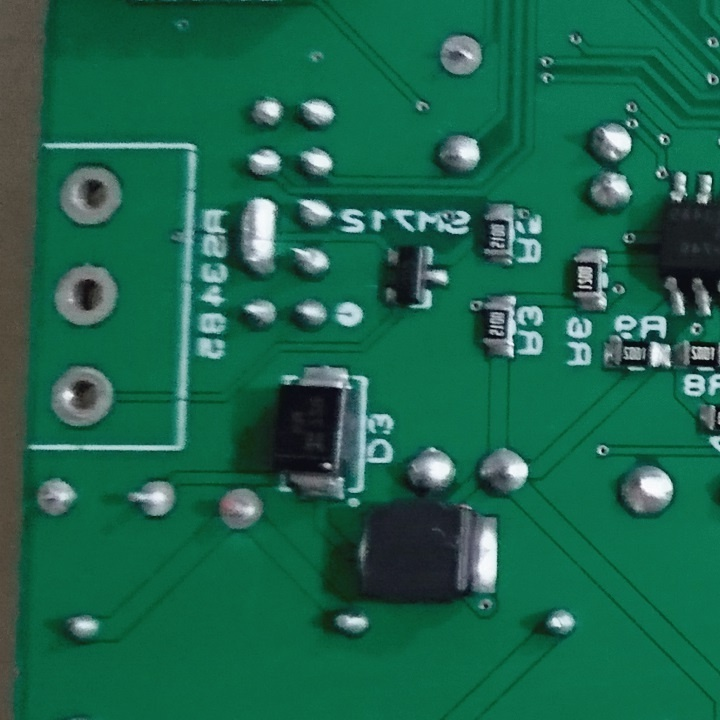F: (50, 260, 124, 332), (53, 160, 129, 230), (46, 360, 117, 431), (122, 475, 181, 523), (213, 483, 267, 532), (436, 30, 485, 82), (32, 475, 82, 518)
P: (237, 191, 282, 283)
